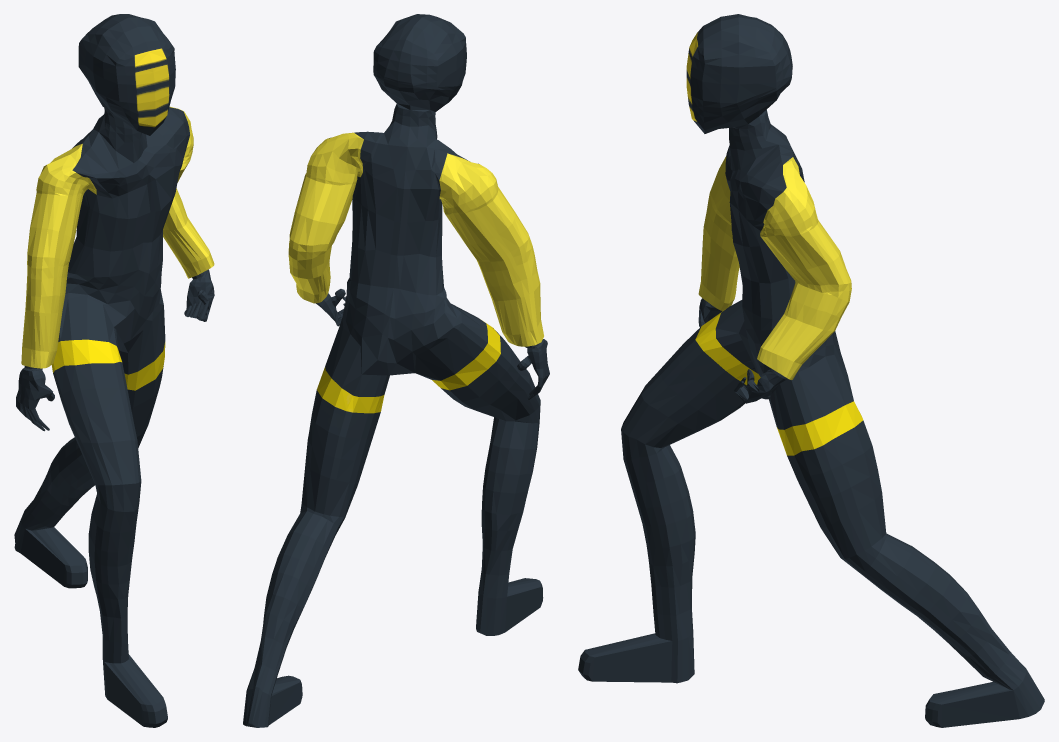
Rendered from Sentry_Stun_Recover_000010.obj.
3 renders of one model, left to right at view 1: azimuth 30°, elevation 25°; view 2: azimuth 150°, elevation 25°; view 3: azimuth 270°, elevation 25°, orthographic. The views are drawn at different scales.
Parts seen in each view (by area): view 1: Cube; view 2: Cube; view 3: Cube.
Boxes of the visible parts, x1,y1,x2,y2 form: Cube: (14,14,214,727); Cube: (243,14,549,727); Cube: (578,14,1044,727).
Bounding box in the file's own units: 1.31 × 3.6 × 2.22.
